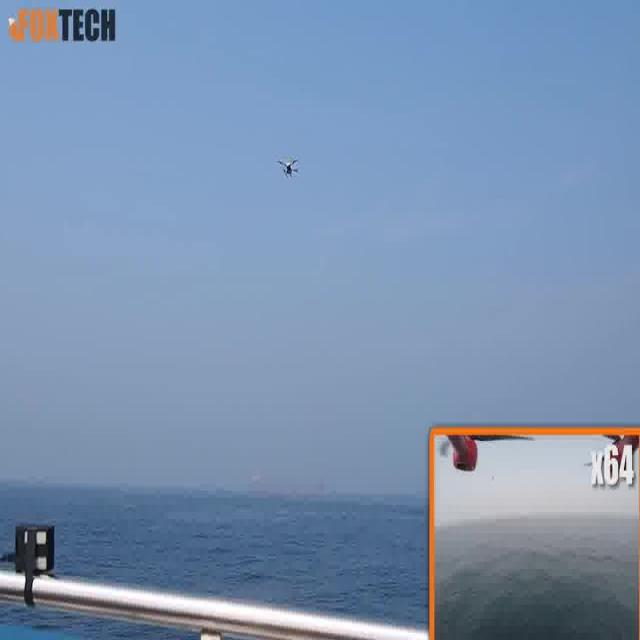drone: (277, 158, 302, 184)
